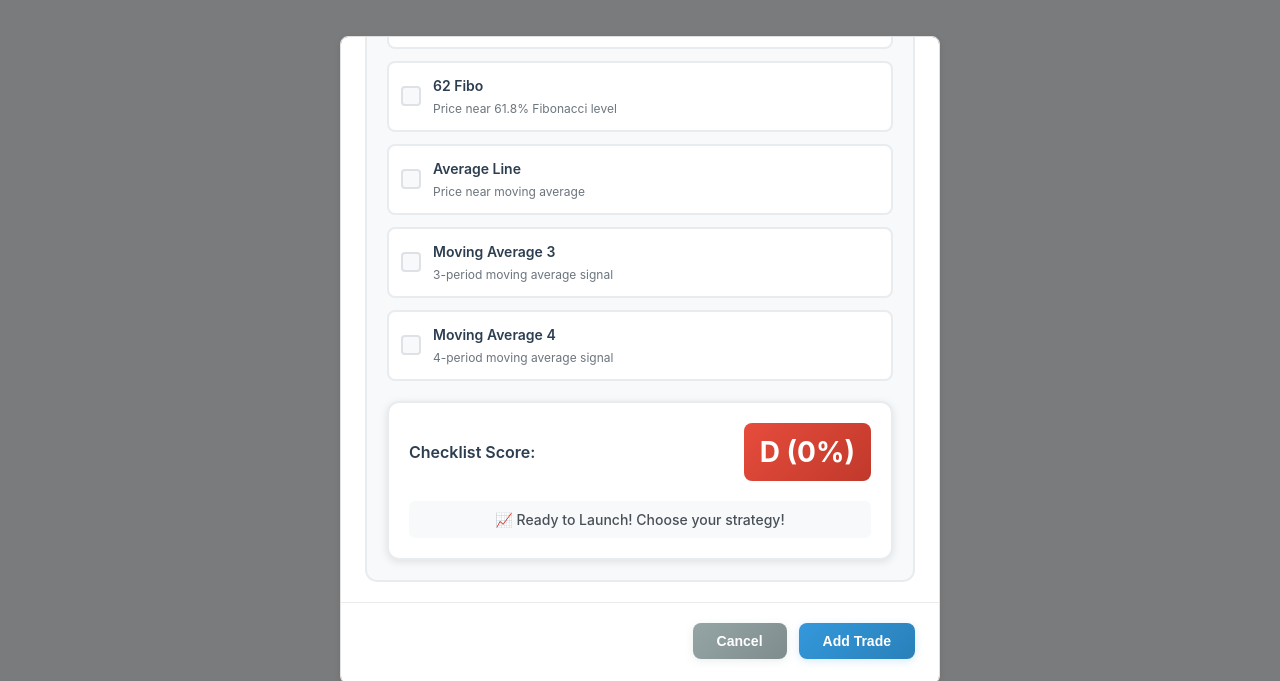
Test: TradeForm › shows validation error for missing required fields
(page scrolled)
Note: Try to submit without filling required fields
Click the button "Add Trade".
click(857, 641)  # box top-left (798, 623), bottom-right (915, 659)
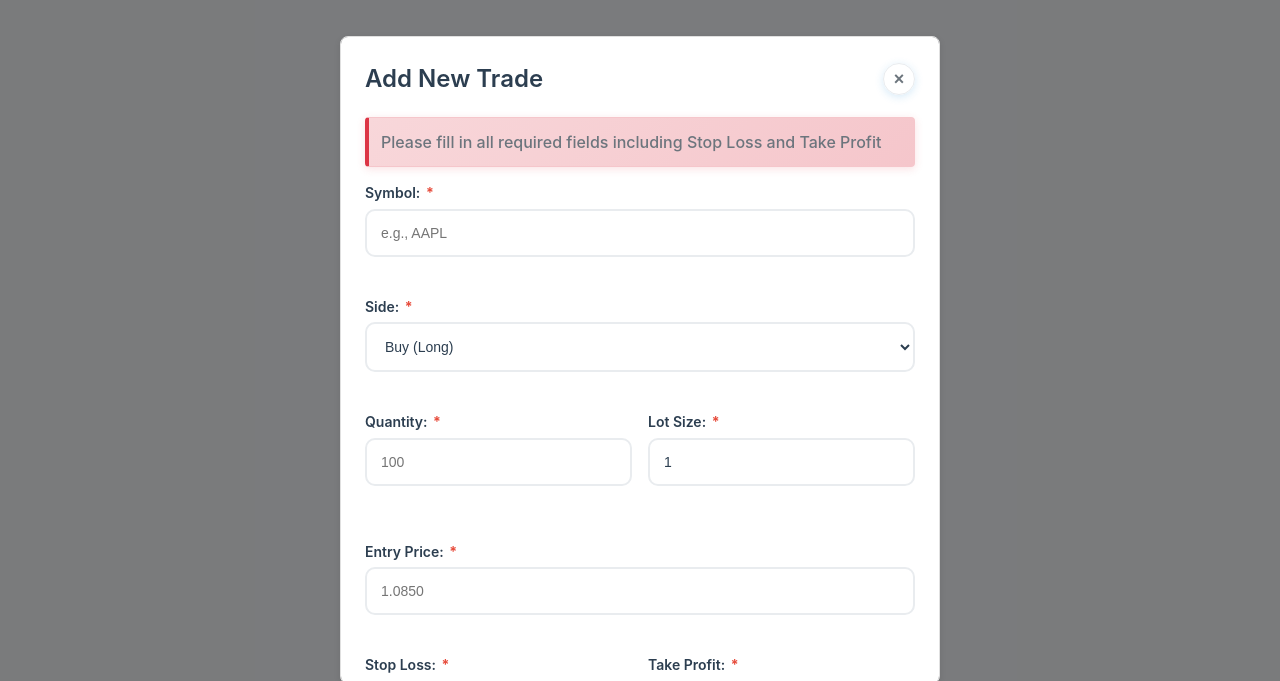
expect the text "Please fill in all required fields" is shown: met, box top-left (381, 132), bottom-right (882, 152)
